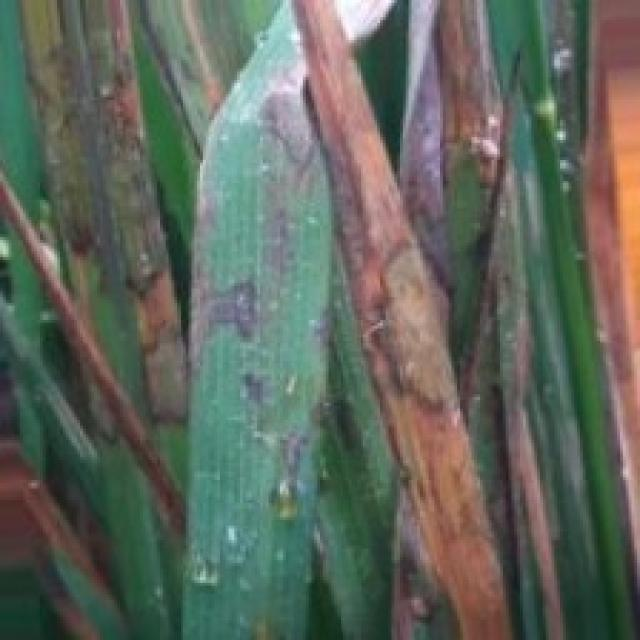Bacterial_Blight: (290, 0, 516, 636), (17, 0, 197, 423), (0, 166, 197, 542), (584, 0, 640, 585), (0, 441, 136, 640), (368, 233, 476, 428), (257, 72, 331, 170)
